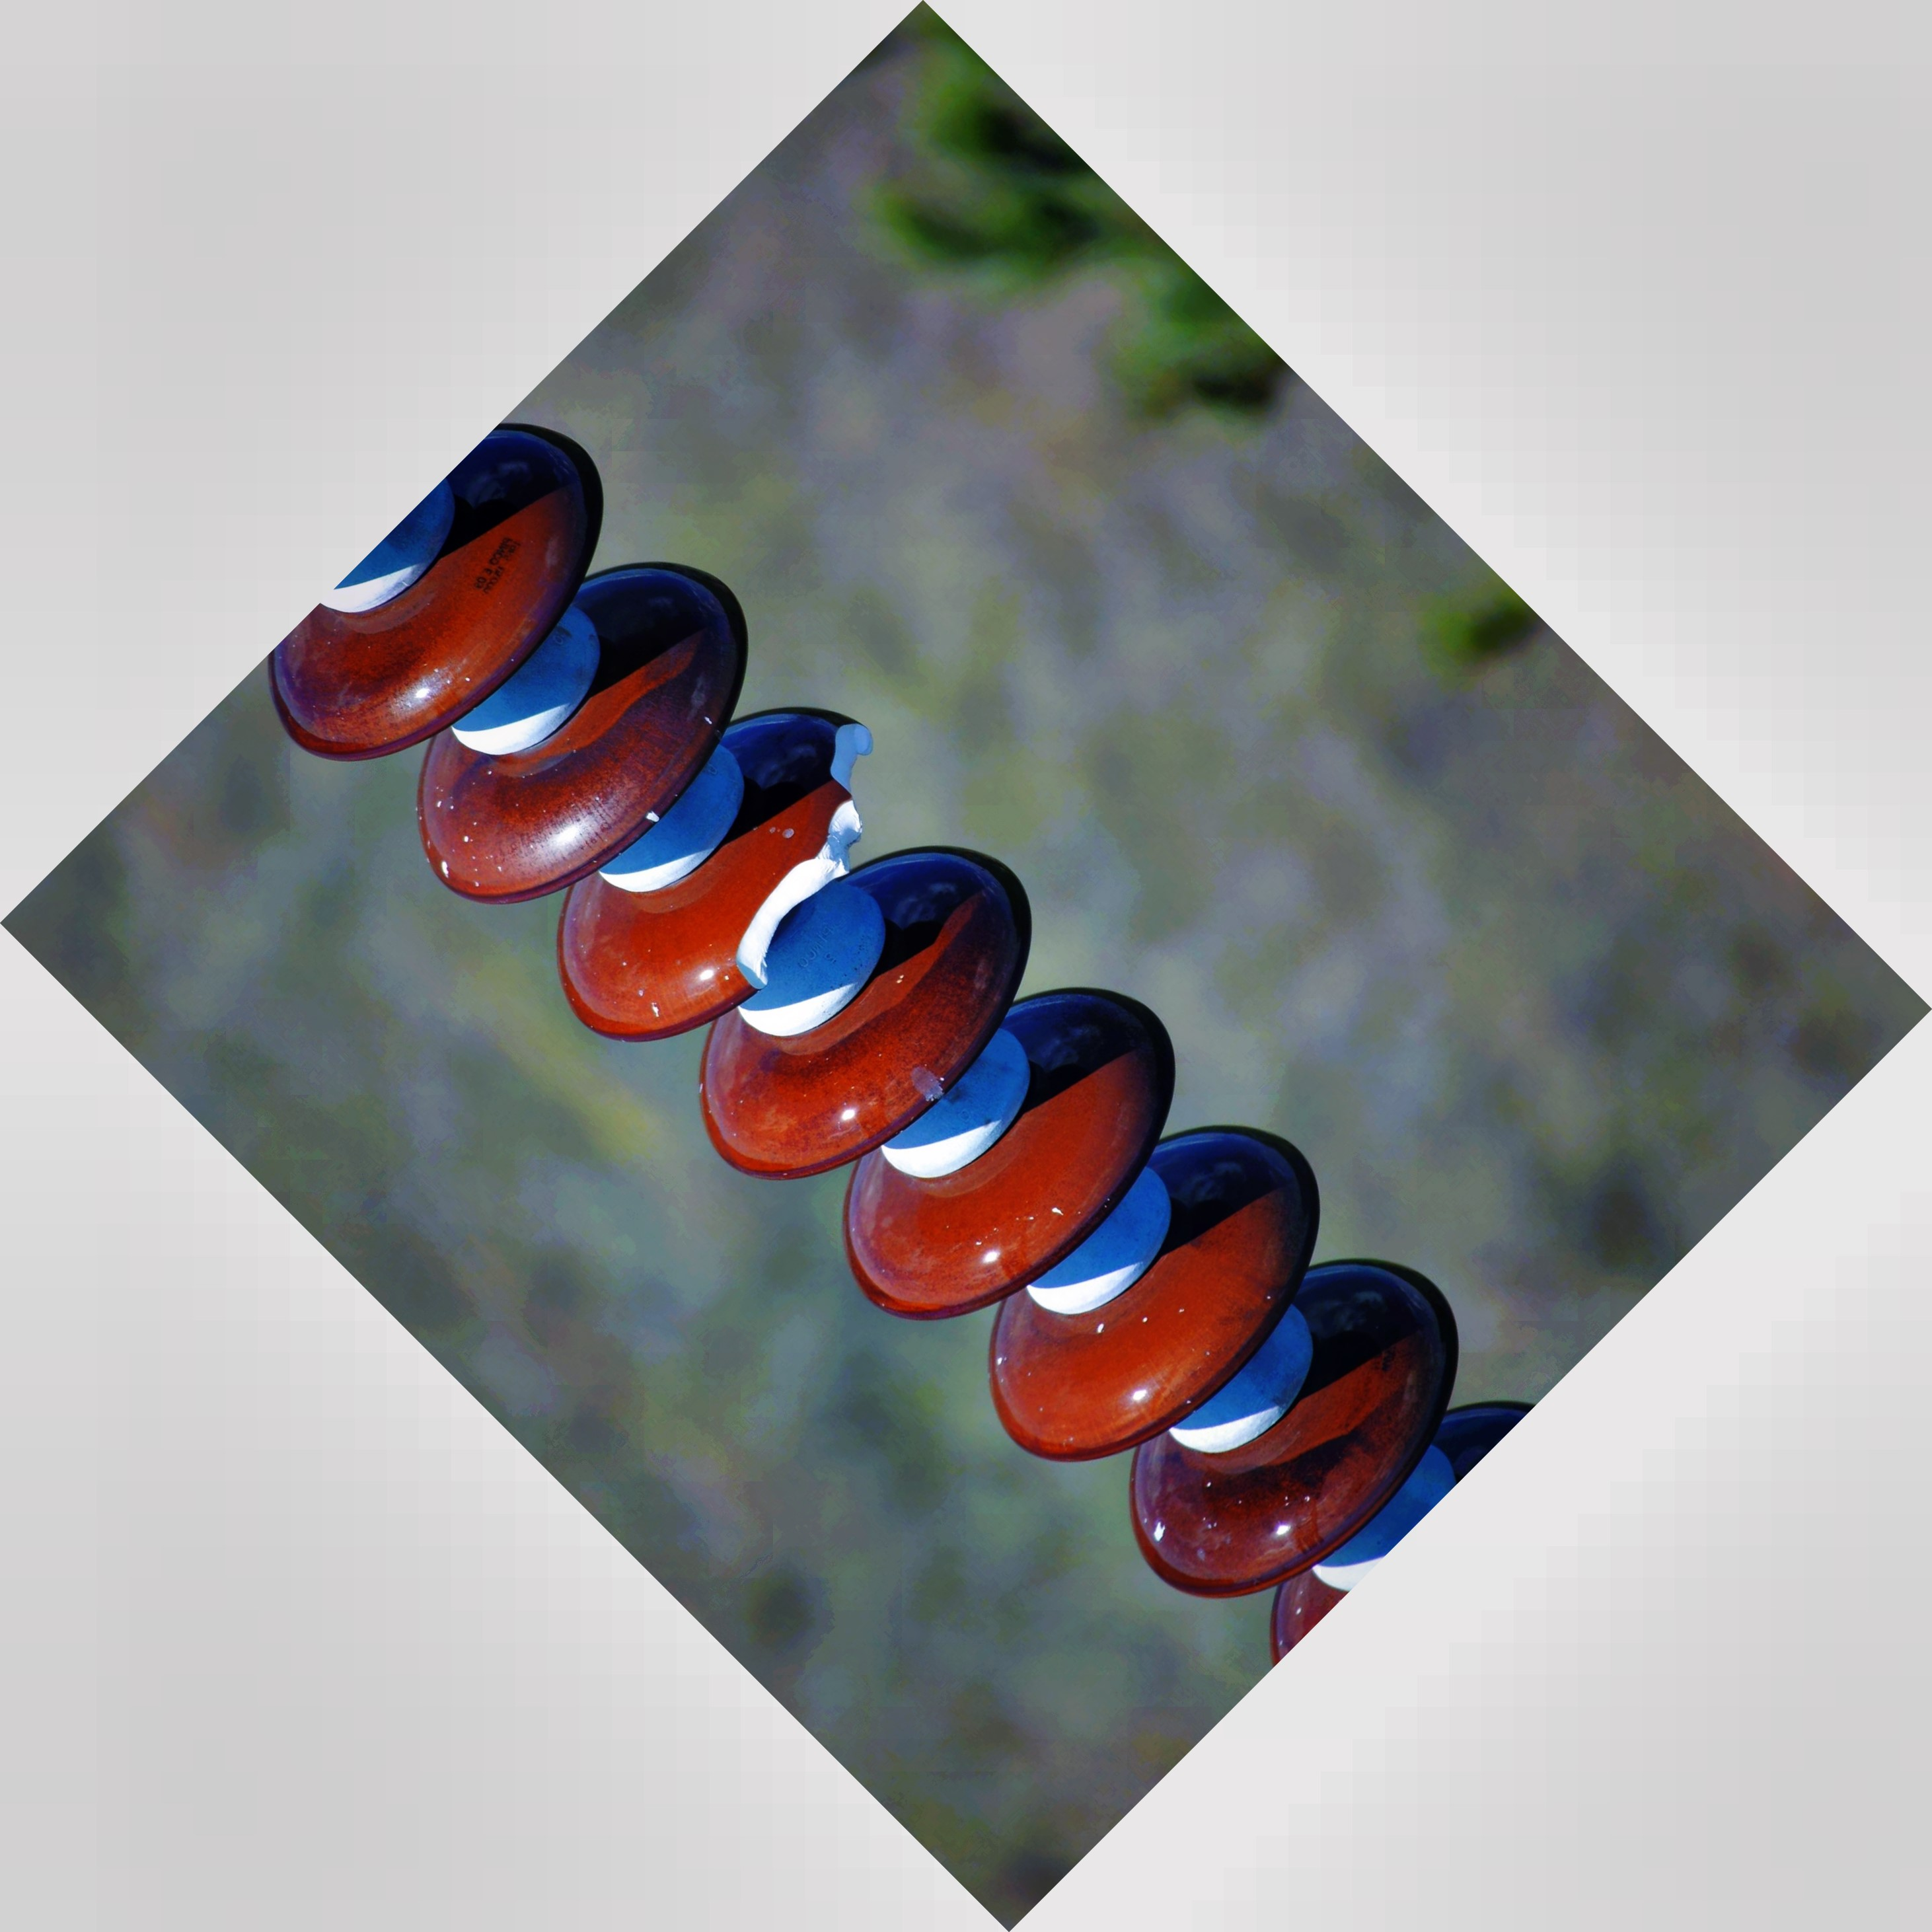insulator breakage: (536, 702, 899, 1044)
